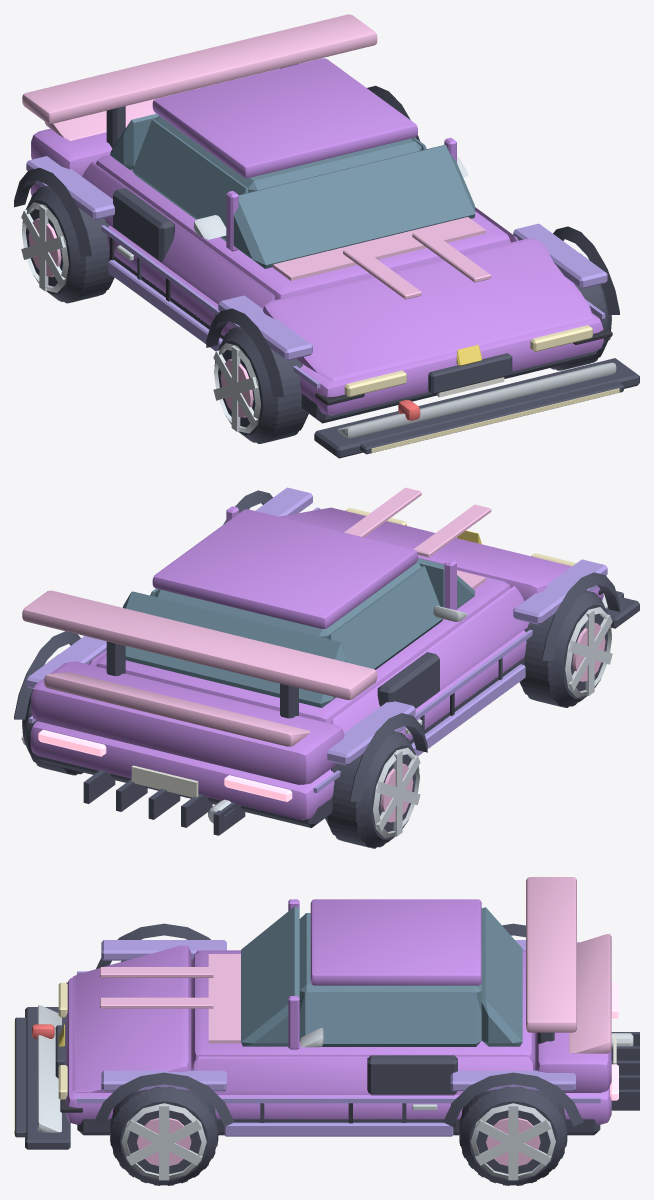
Rendered from apex_arrow.fbx.
The picture shows the model from 3 angles, top to bottom: view 1: azimuth 30°, elevation 25°; view 2: azimuth 150°, elevation 25°; view 3: azimuth 270°, elevation 25°; orthographic projection. The views are drawn at different scales.
Visible parts, largest first — view 1: Body, Glass, Trim, Accent2, Accent, Metal, Wheel_FR, Wheel_RR, Accent3, Light, Light3, Metal2 (+2 smaller); view 2: Body, Accent2, Glass, Trim, Accent, Metal, Wheel_RR, Wheel_FR, Light3, Light2, Accent4, Metal2 (+1 smaller); view 3: Body, Glass, Trim, Accent2, Accent, Metal, Wheel_RL, Wheel_FL, Accent3, Light3, Metal2, Light (+1 smaller).
Part boxes in pixels (<box>): Body: <box>30,58,603,415</box>; Glass: <box>110,68,475,268</box>; Trim: <box>14,64,639,458</box>; Accent2: <box>22,14,485,280</box>; Accent: <box>26,137,607,388</box>; Metal: <box>21,202,611,433</box>; Wheel_FR: <box>214,326,308,443</box>; Wheel_RR: <box>22,185,114,303</box>; Accent3: <box>193,157,616,438</box>; Light: <box>344,325,619,452</box>; Light3: <box>343,229,491,299</box>; Metal2: <box>28,218,253,417</box>; Body: <box>30,506,603,819</box>; Accent2: <box>22,570,485,746</box>; Glass: <box>122,514,475,707</box>; Trim: <box>14,490,639,835</box>; Accent: <box>26,487,607,793</box>; Metal: <box>21,607,612,838</box>; Wheel_RR: <box>325,731,419,848</box>; Wheel_FR: <box>519,590,611,707</box>; Light3: <box>344,487,491,557</box>; Light2: <box>38,729,292,801</box>; Accent4: <box>131,765,198,797</box>; Metal2: <box>380,623,605,822</box>; Body: <box>66,899,611,1124</box>; Glass: <box>241,906,522,1046</box>; Trim: <box>15,923,639,1149</box>; Accent2: <box>208,877,611,1053</box>; Accent: <box>77,940,600,1136</box>; Metal: <box>121,1033,633,1180</box>; Wheel_RL: <box>459,1086,567,1185</box>; Wheel_FL: <box>110,1086,218,1185</box>; Accent3: <box>37,1005,323,1132</box>; Light3: <box>100,967,213,1008</box>; Metal2: <box>137,1118,540,1165</box>; Light: <box>14,982,67,1134</box>.
Size of the model in its own units: 3.3 by 1.72 by 5.51.
